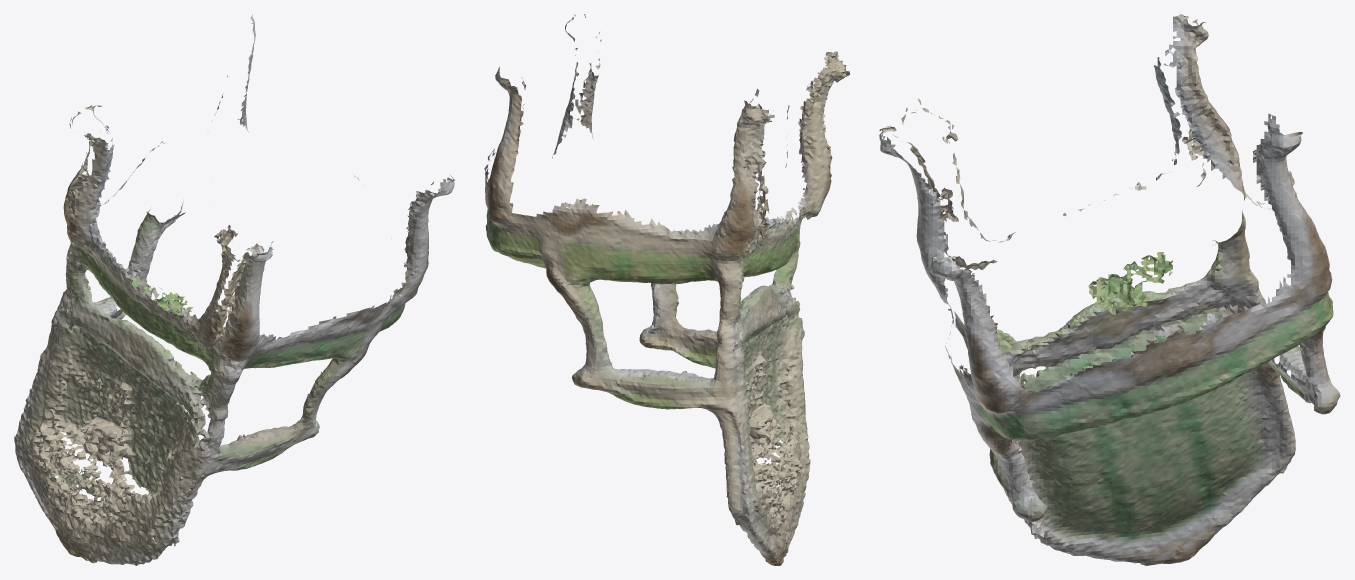
The picture shows the model from 3 angles, left to right: view 1: azimuth 30°, elevation 25°; view 2: azimuth 150°, elevation 25°; view 3: azimuth 270°, elevation 25°; orthographic projection. The views are drawn at different scales.
Parts seen in each view (by area): view 1: geometry_0; view 2: geometry_0; view 3: geometry_0.
Part boxes in pixels (box(x1,y1,x2,y2)): geometry_0: box(14, 14, 454, 565); geometry_0: box(484, 14, 849, 565); geometry_0: box(879, 14, 1340, 565).
Bounding box in the file's own units: 7.7 × 11.02 × 7.97.
